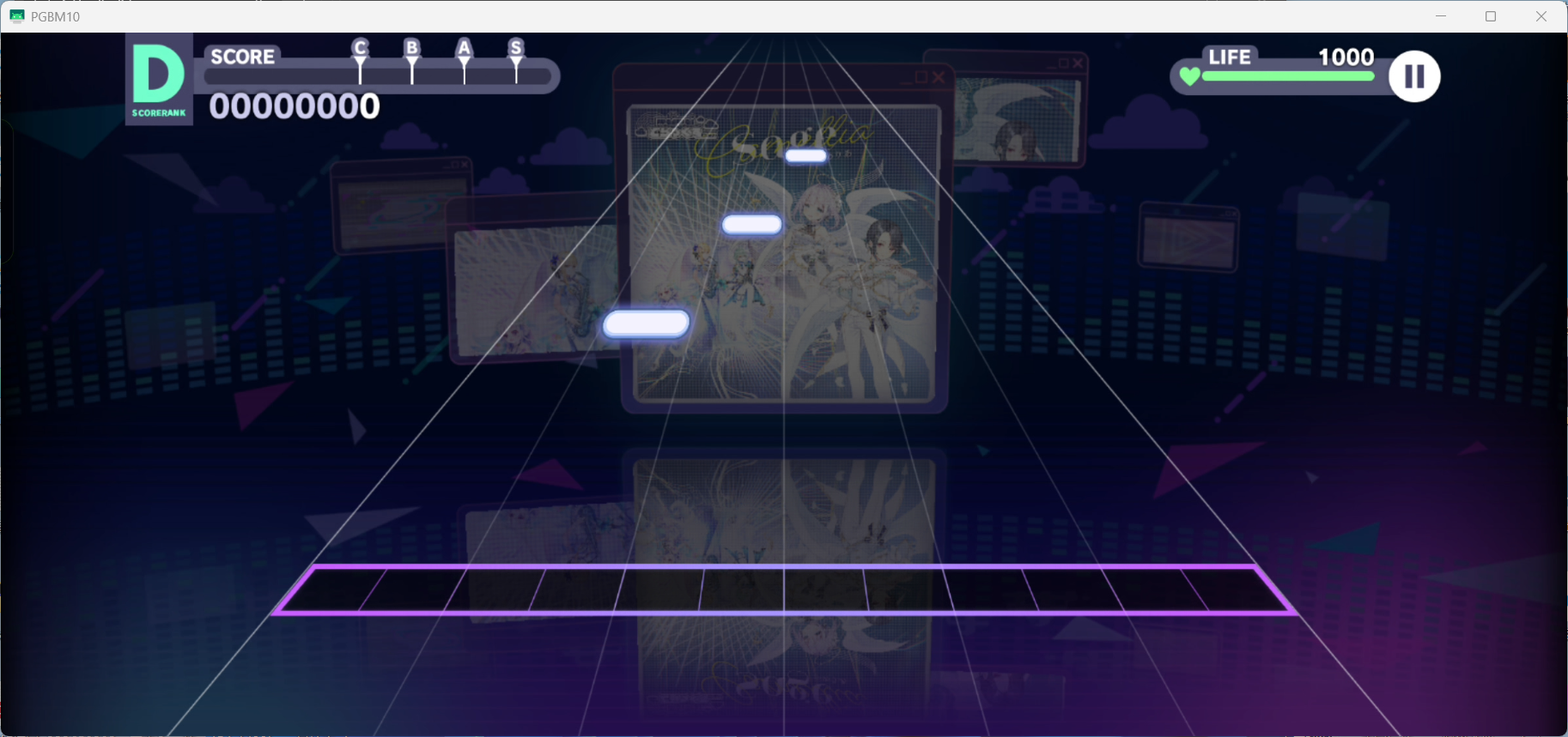tap: (603, 307, 690, 339), (721, 214, 782, 233), (785, 149, 827, 163)
